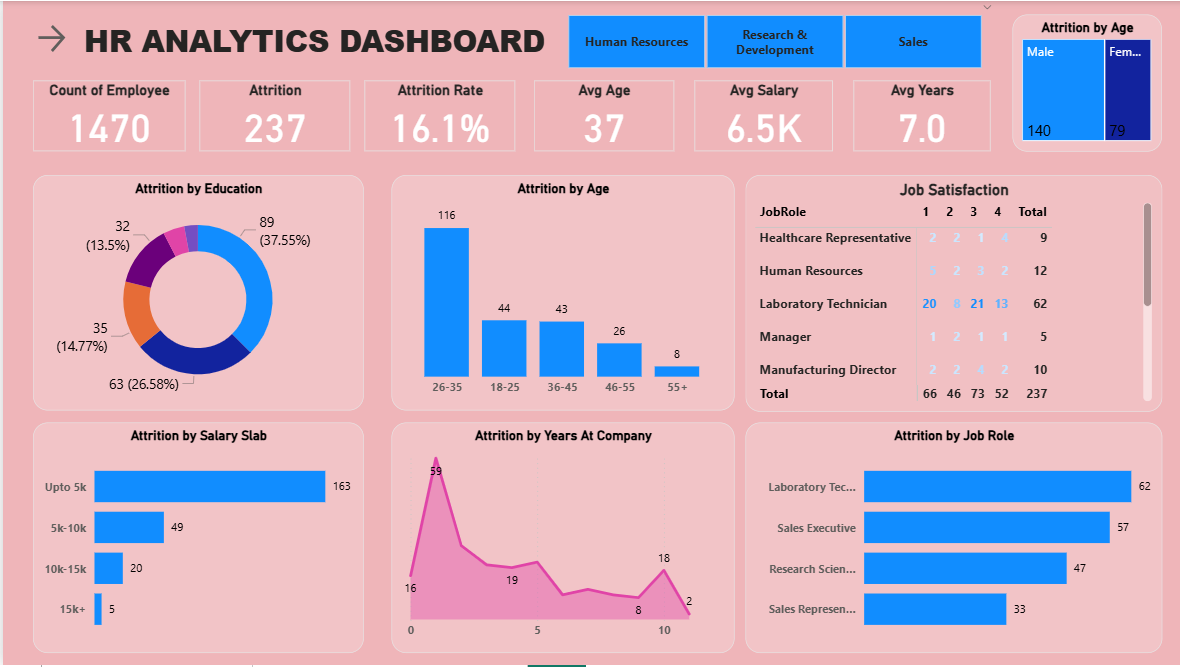

Layout of this report page (visuals, bound fields, positions):
{"tool":"powerbi","page":{"name":"Attrition Overview","canvas":[1280,720],"ordinal":0},"visuals":[{"type":"card","title":"Count of Employee","fields":{"Values":["CountNonNull(HR_Analytics.EmpID)"]},"box":[33.3,86.7,165,76.7],"z":0},{"type":"card","title":"Attrition","fields":{"Values":["Sum(HR_Analytics.Attrition Count)"]},"box":[213.3,86.7,163.3,76.7],"z":1000},{"type":"card","title":"Attrition Rate","fields":{"Values":["HR_Analytics.AttritionRate"]},"box":[391.7,86.7,163.3,76.7],"z":2000},{"type":"card","title":"Avg Age","fields":{"Values":["Avg(HR_Analytics.Age)"]},"box":[575,86.7,151.7,76.7],"z":3000},{"type":"card","title":"Avg Salary","fields":{"Values":["Avg(HR_Analytics.MonthlyIncome)"]},"box":[750,86.7,150,76.7],"z":4000},{"type":"card","title":"Avg Years","fields":{"Values":["Avg(HR_Analytics.YearsAtCompany)"]},"box":[921.7,86.7,148.3,76.7],"z":5000},{"type":"donutChart","title":"Attrition by Education","fields":{"Category":["HR_Analytics.EducationField"],"Y":["Sum(HR_Analytics.Attrition Count)"]},"box":[33.3,188.3,358.3,255],"z":6000},{"type":"columnChart","title":"Attrition by Age","fields":{"Category":["HR_Analytics.AgeGroup"],"Y":["Sum(HR_Analytics.Attrition Count)"]},"box":[421.7,188.3,371.7,255],"z":7000},{"type":"pivotTable","title":"Job Satisfaction","fields":{"Rows":["HR_Analytics.JobRole"],"Columns":["HR_Analytics.JobSatisfaction"],"Values":["Sum(HR_Analytics.Attrition Count)"]},"box":[805,188.3,451.7,256.7],"z":8000},{"type":"barChart","title":"Attrition by Salary Slab","fields":{"Category":["HR_Analytics.SalarySlab"],"Y":["Sum(HR_Analytics.Attrition Count)"]},"box":[33.3,456.7,358.3,250],"z":9000},{"type":"barChart","title":"Attrition by Job Role","fields":{"Category":["HR_Analytics.JobRole"],"Y":["Sum(HR_Analytics.Attrition Count)"]},"box":[805,456.7,451.7,250],"z":10000},{"type":"areaChart","title":"Attrition by Years At Company","fields":{"Category":["HR_Analytics.YearsAtCompany"],"Y":["Sum(HR_Analytics.Attrition Count)"]},"box":[421.7,456.7,371.7,250],"z":11000},{"type":"treemap","title":"Attrition by Age","fields":{"Group":["HR_Analytics.Gender"],"Values":["Sum(HR_Analytics.Attrition Count)"]},"box":[1095,15,161.7,148.3],"z":12000},{"type":"slicer","fields":{"Values":["HR_Analytics.Department"]},"box":[587.2,0,497.7,79.7],"z":13000},{"type":"textbox","box":[83,14.6,523.7,65.1],"z":14000},{"type":"actionButton","box":[32.5,21.1,50.4,39],"z":14001}]}

Visuals, with their boxes in screenshot pixels (x1, y1, x2, y2), scaled from the page's 1280x720 canvas onto the 1180x667 screenshot:
"Count of Employee" card: {"x1": 31, "y1": 80, "x2": 183, "y2": 151}
"Attrition" card: {"x1": 197, "y1": 80, "x2": 347, "y2": 151}
"Attrition Rate" card: {"x1": 361, "y1": 80, "x2": 512, "y2": 151}
"Avg Age" card: {"x1": 530, "y1": 80, "x2": 670, "y2": 151}
"Avg Salary" card: {"x1": 691, "y1": 80, "x2": 830, "y2": 151}
"Avg Years" card: {"x1": 850, "y1": 80, "x2": 986, "y2": 151}
"Attrition by Education" donutChart: {"x1": 31, "y1": 174, "x2": 361, "y2": 411}
"Attrition by Age" columnChart: {"x1": 389, "y1": 174, "x2": 731, "y2": 411}
"Job Satisfaction" pivotTable: {"x1": 742, "y1": 174, "x2": 1159, "y2": 412}
"Attrition by Salary Slab" barChart: {"x1": 31, "y1": 423, "x2": 361, "y2": 655}
"Attrition by Job Role" barChart: {"x1": 742, "y1": 423, "x2": 1159, "y2": 655}
"Attrition by Years At Company" areaChart: {"x1": 389, "y1": 423, "x2": 731, "y2": 655}
"Attrition by Age" treemap: {"x1": 1009, "y1": 14, "x2": 1159, "y2": 151}
slicer - HR_Analytics.Department: {"x1": 541, "y1": 0, "x2": 1000, "y2": 74}
textbox: {"x1": 77, "y1": 14, "x2": 559, "y2": 74}
actionButton: {"x1": 30, "y1": 20, "x2": 76, "y2": 56}
